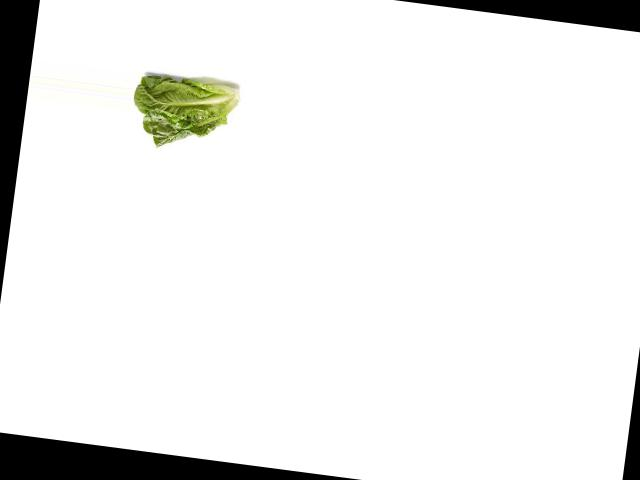lettuce: (127, 55, 248, 157)
